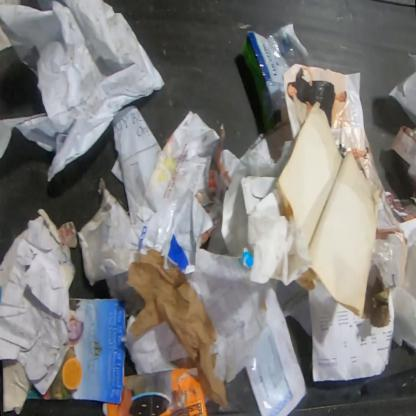cardboard: (101, 366, 209, 415), (36, 208, 79, 292), (241, 33, 275, 134), (2, 360, 34, 415), (239, 175, 279, 216), (363, 280, 390, 328), (0, 265, 11, 303)
soft_plastic: (0, 0, 166, 185), (247, 23, 310, 123), (367, 232, 415, 354)
